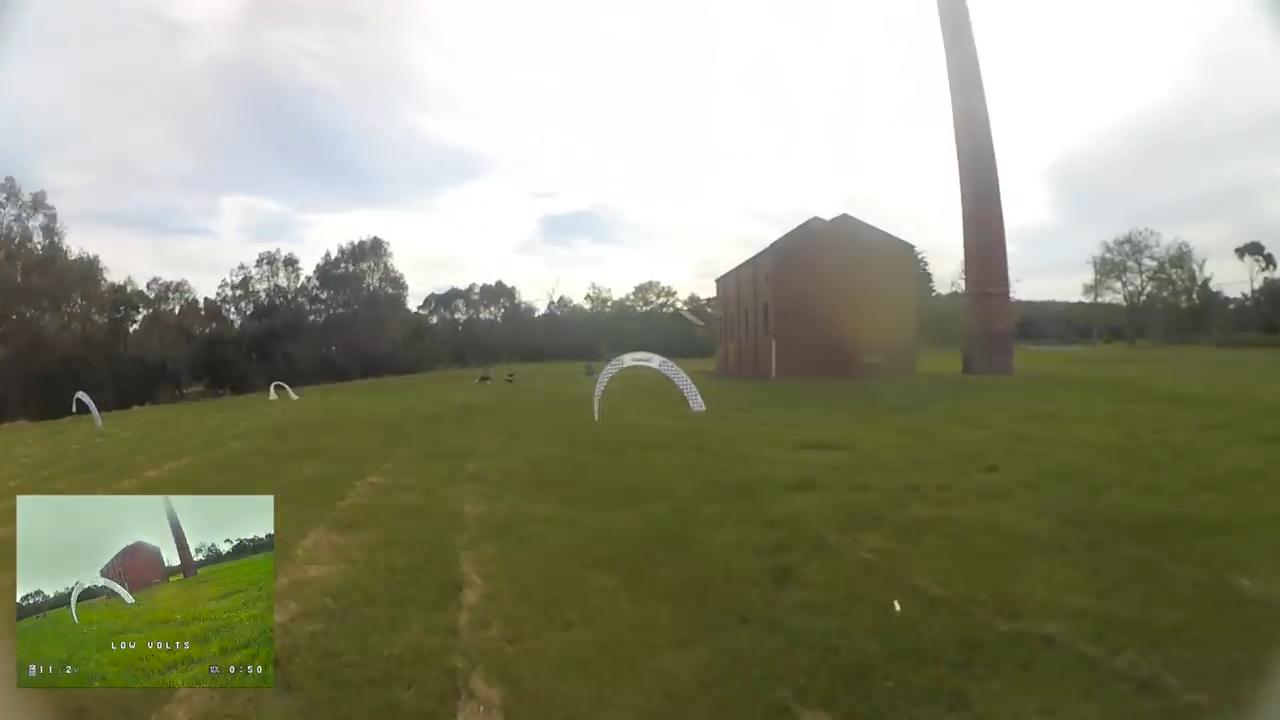gate: (591, 349, 710, 419), (69, 386, 104, 429), (266, 380, 298, 404)
